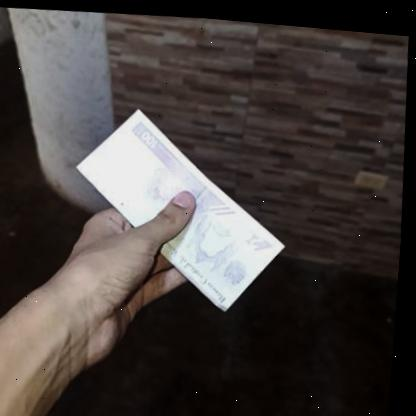one_hundred-back-vef: (67, 96, 300, 317)
